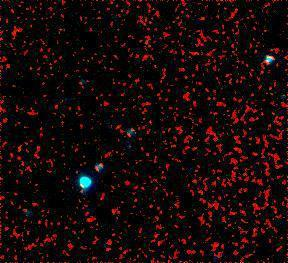star: (67, 170, 97, 200)
